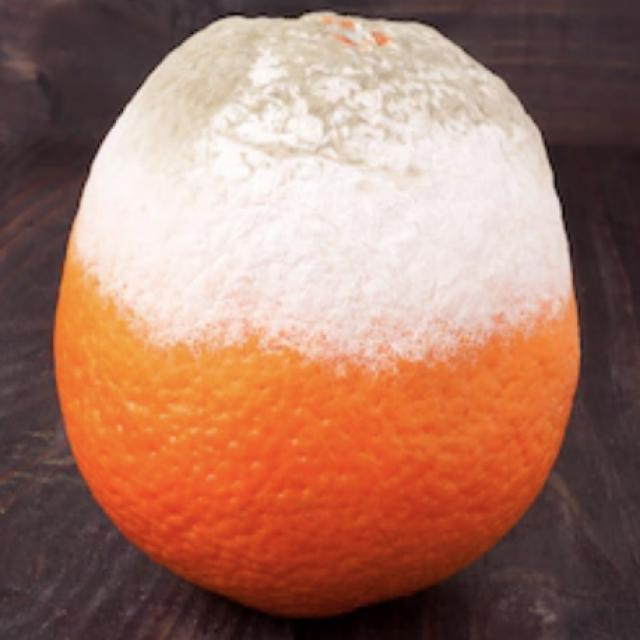rotten-orange: (52, 14, 582, 618)
